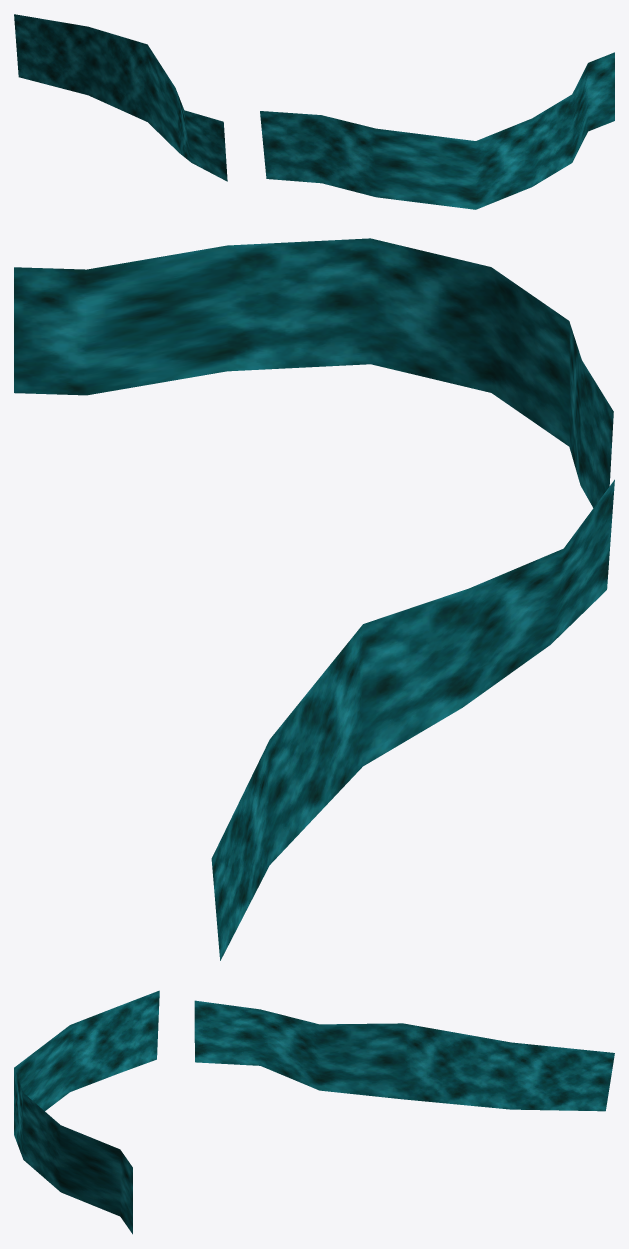
File: MIRKWOOD_FOGH.fbx
The picture shows the model from 3 angles, top to bottom: view 1: azimuth 30°, elevation 25°; view 2: azimuth 150°, elevation 25°; view 3: azimuth 270°, elevation 25°; orthographic projection. The views are drawn at different scales.
Visible parts, largest first — view 1: MIRKWOOD_FOGH; view 2: MIRKWOOD_FOGH; view 3: MIRKWOOD_FOGH.
Part boxes in pixels (x1,y1,x2,y2): MIRKWOOD_FOGH: [14, 14, 614, 209]; MIRKWOOD_FOGH: [14, 238, 614, 960]; MIRKWOOD_FOGH: [14, 990, 614, 1234].
Size of the model in its own units: 461188 by 159704 by 671959.
1 material, 1 textured.
